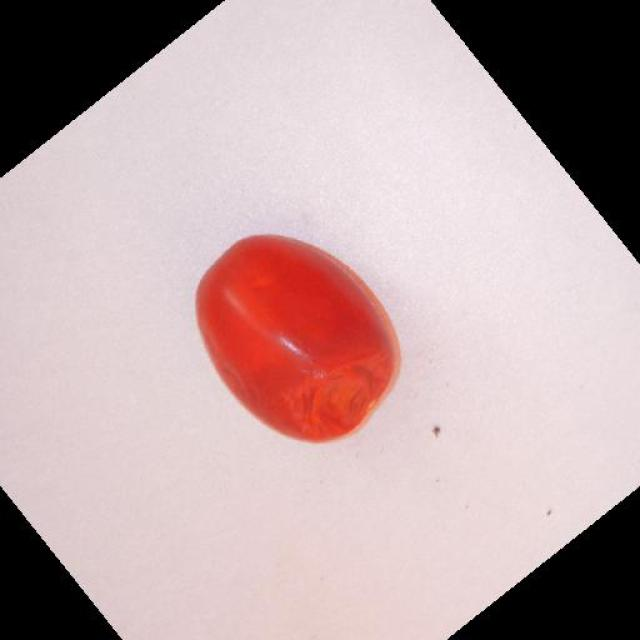Stale_tomato: (246, 342, 411, 437)
